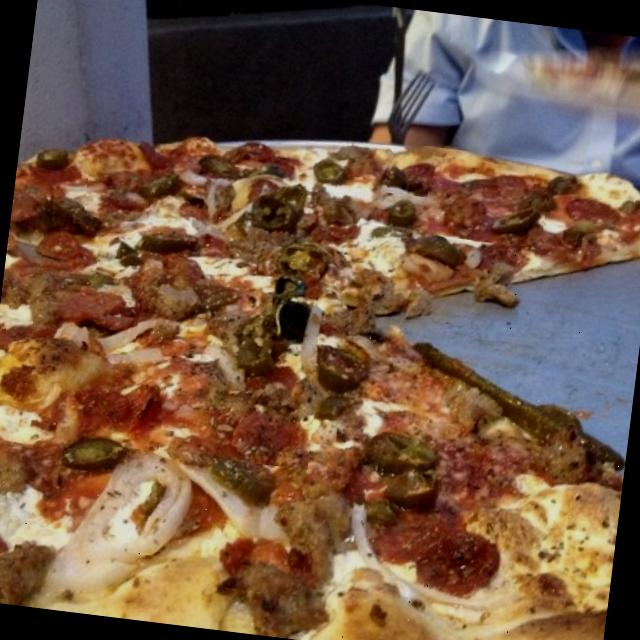pepperoni: (353, 478, 501, 606), (209, 352, 319, 470), (4, 268, 142, 356), (114, 449, 218, 562), (62, 361, 168, 458), (432, 160, 535, 246), (214, 522, 307, 596), (541, 189, 635, 255), (280, 197, 362, 256), (83, 160, 154, 223), (39, 218, 101, 276), (8, 175, 50, 237), (384, 147, 432, 197), (0, 513, 17, 604)
pizza: (0, 136, 640, 640)
